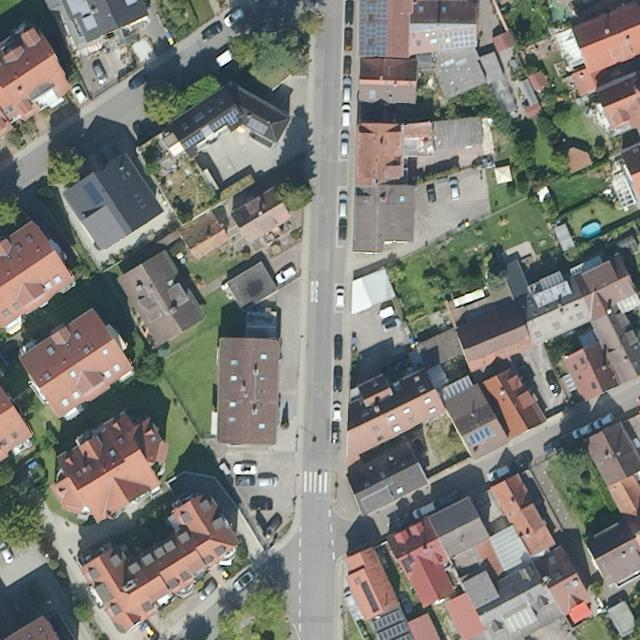PV: (357, 0, 390, 59), (369, 608, 418, 639), (436, 26, 479, 52), (208, 105, 242, 133), (358, 578, 383, 614), (464, 425, 494, 448), (80, 180, 106, 206), (181, 130, 206, 150), (400, 553, 416, 575)
